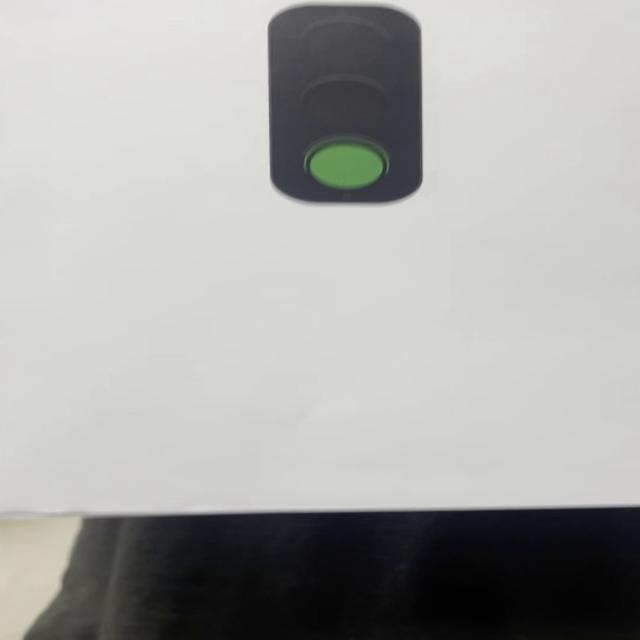green: (267, 5, 425, 204)
